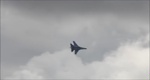maybay_muctieu: (69, 40, 88, 55)
